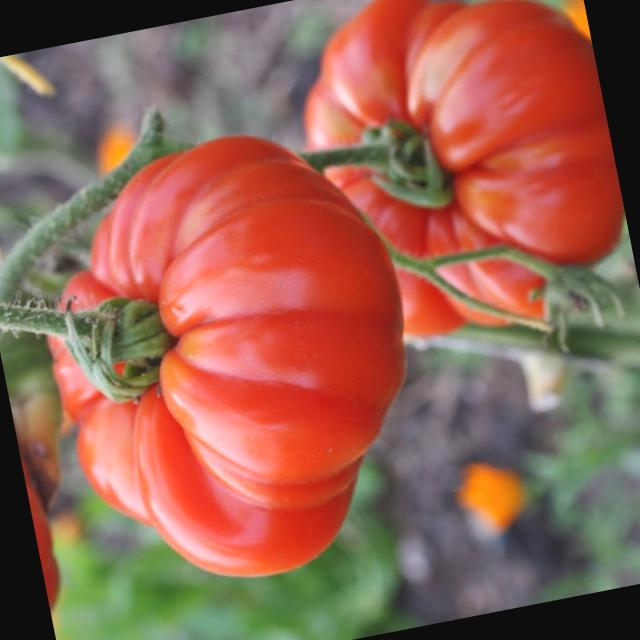tomato: (4, 106, 432, 620), (311, 0, 640, 365)
